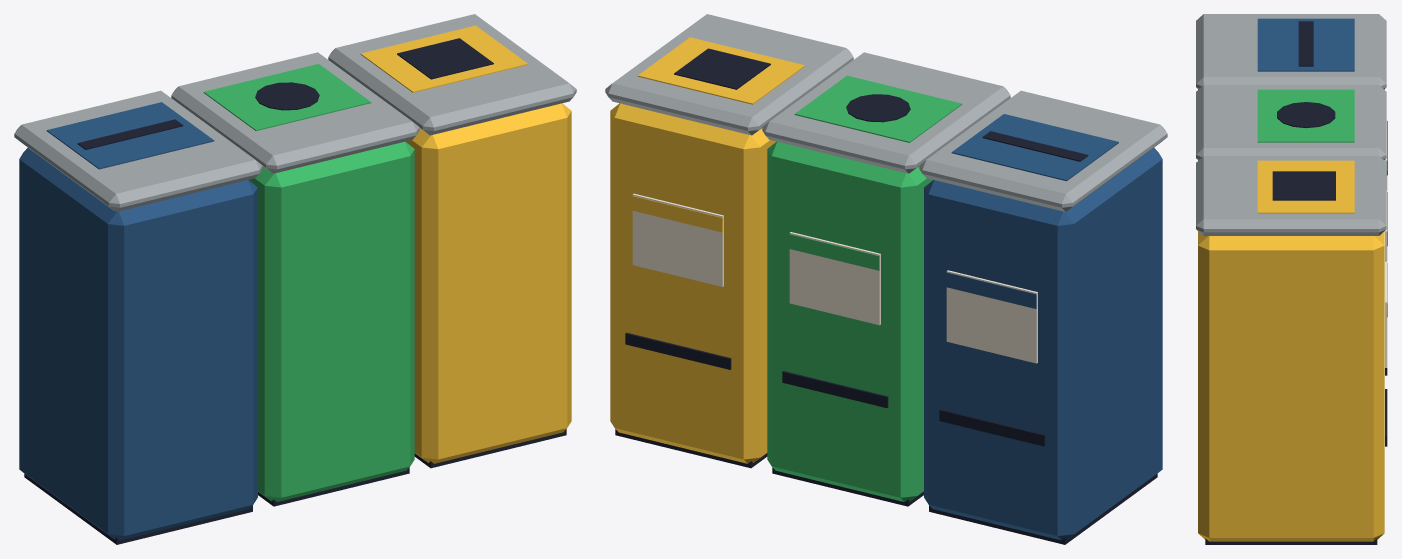
Rendered from sm_env_depot_recycle_station.glb.
3 renders of one model, left to right at view 1: azimuth 30°, elevation 25°; view 2: azimuth 150°, elevation 25°; view 3: azimuth 270°, elevation 25°, orthographic. The views are drawn at different scales.
Parts seen in each view (by area): view 1: BinBody, BinBody.002, BinBody.001, BinLid, BinLid.002, BinLid.001, Rim, Rim.001, Rim.002, Mouth.002, Mouth.001, BinPlinth (+3 smaller); view 2: BinBody, BinBody.002, BinBody.001, BinLid, BinLid.002, BinLid.001, BinLabel.001, BinLabel, BinLabel.002, Rim, Rim.001, Rim.002 (+12 smaller); view 3: BinBody.002, BinLid.002, BinLid.001, BinLid, Rim, Rim.001, Rim.002, Mouth.002, Mouth.001, Mouth, BinPlinth.002, BinLabel.002.
Part boxes in pixels (<box>): BinBody: <box>19,148,257,540</box>; BinBody.002: <box>405,103,571,463</box>; BinBody.001: <box>249,141,414,501</box>; BinLid: <box>14,90,262,211</box>; BinLid.002: <box>328,14,576,135</box>; BinLid.001: <box>171,52,419,173</box>; Rim: <box>46,102,214,169</box>; Rim.001: <box>203,64,371,130</box>; Rim.002: <box>360,25,527,92</box>; Mouth.002: <box>397,38,493,79</box>; Mouth.001: <box>255,82,319,110</box>; BinPlinth: <box>24,474,252,544</box>; BinBody: <box>924,148,1162,540</box>; BinBody.002: <box>610,103,776,463</box>; BinBody.001: <box>767,141,932,501</box>; BinLid: <box>919,90,1167,211</box>; BinLid.002: <box>605,14,853,135</box>; BinLid.001: <box>762,52,1010,173</box>; BinLabel.001: <box>789,232,880,325</box>; BinLabel: <box>946,270,1037,363</box>; BinLabel.002: <box>632,193,723,286</box>; Rim: <box>951,114,1118,181</box>; Rim.001: <box>794,75,962,142</box>; Rim.002: <box>637,37,805,104</box>; BinBody.002: <box>1198,231,1384,541</box>; BinLid.002: <box>1196,156,1386,235</box>; BinLid.001: <box>1196,85,1386,160</box>; BinLid: <box>1196,14,1386,89</box>; Rim: <box>1257,18,1354,71</box>; Rim.001: <box>1257,89,1354,142</box>; Rim.002: <box>1257,160,1354,213</box>; Mouth.002: <box>1272,171,1335,200</box>; Mouth.001: <box>1277,102,1335,128</box>; Mouth: <box>1298,21,1313,66</box>; BinPlinth.002: <box>1205,538,1377,544</box>; BinLabel.002: <box>1385,261,1387,367</box>.
Size of the model in its own units: 1.34 by 0.971 by 0.5135.
